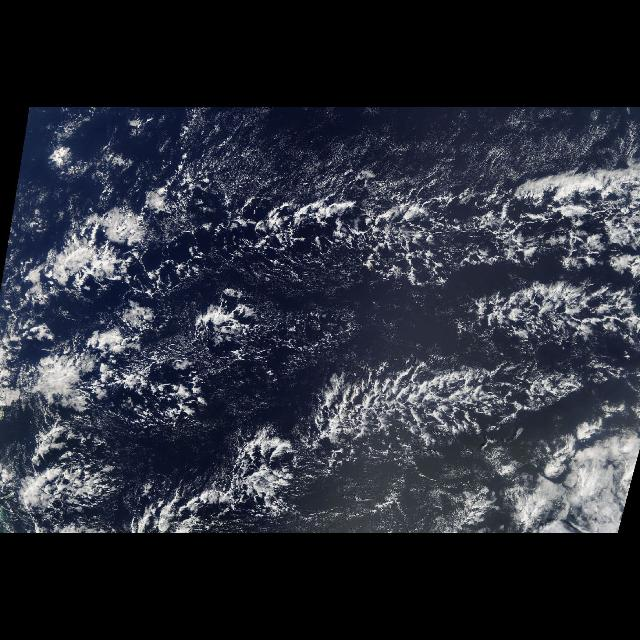Fish: (125, 111, 639, 534)
